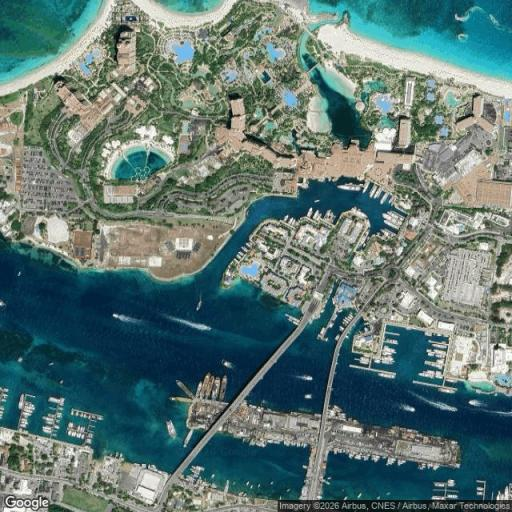ship: (68, 409, 103, 445), (183, 372, 226, 400), (43, 397, 63, 436), (166, 316, 211, 331), (43, 404, 63, 436), (19, 394, 35, 429), (421, 397, 457, 411), (71, 408, 103, 420), (199, 372, 211, 399), (202, 372, 214, 399), (176, 380, 194, 398), (389, 195, 406, 214), (235, 242, 251, 261), (67, 423, 85, 439), (112, 313, 137, 323), (0, 388, 8, 419), (340, 313, 353, 331), (350, 207, 367, 219), (23, 396, 35, 413), (338, 183, 363, 191), (166, 420, 177, 438), (196, 380, 206, 399), (340, 314, 351, 331), (219, 375, 226, 401), (76, 425, 89, 439), (370, 184, 382, 199), (212, 377, 220, 399), (208, 375, 215, 399), (184, 429, 193, 447), (358, 232, 368, 247), (424, 360, 442, 368), (48, 396, 64, 405), (342, 313, 353, 326), (286, 314, 299, 325), (191, 466, 204, 477), (324, 210, 334, 224), (430, 341, 447, 349), (68, 423, 85, 431), (381, 354, 394, 364), (419, 370, 435, 378), (378, 372, 396, 379), (369, 184, 378, 198), (489, 14, 499, 26), (317, 328, 327, 340), (382, 346, 395, 355), (468, 400, 484, 407), (371, 184, 379, 198), (401, 404, 415, 412), (287, 217, 298, 227), (433, 349, 446, 357), (438, 387, 455, 393), (288, 217, 298, 227), (380, 192, 389, 203), (43, 415, 55, 423), (382, 356, 394, 364), (196, 381, 202, 397), (19, 417, 27, 429), (455, 14, 468, 21), (85, 432, 92, 445), (243, 241, 251, 252), (222, 360, 233, 368), (374, 188, 382, 199), (234, 252, 243, 261), (312, 210, 321, 219), (42, 426, 52, 434), (196, 295, 201, 311), (360, 356, 370, 364), (425, 370, 435, 378), (472, 388, 485, 394), (447, 492, 458, 499), (363, 181, 370, 192), (19, 395, 24, 410), (297, 375, 312, 380), (196, 299, 202, 311), (445, 377, 457, 383), (372, 357, 382, 364), (328, 318, 335, 328), (244, 241, 251, 251), (384, 339, 398, 344), (56, 408, 62, 419), (476, 487, 484, 495), (435, 371, 443, 379), (418, 463, 427, 470), (0, 394, 7, 403), (429, 464, 439, 470), (224, 480, 229, 492), (56, 409, 62, 419), (371, 455, 379, 462), (427, 349, 435, 356), (447, 480, 455, 487), (434, 482, 445, 487), (431, 496, 444, 500), (0, 406, 4, 419), (397, 460, 405, 466), (307, 208, 312, 217), (388, 348, 395, 354), (112, 313, 119, 319), (354, 454, 362, 459), (304, 394, 311, 399), (0, 300, 5, 307), (335, 334, 340, 341), (2, 388, 8, 393), (18, 356, 23, 362), (210, 473, 216, 478), (323, 480, 330, 484), (425, 332, 432, 336), (284, 216, 288, 222), (250, 484, 254, 490), (357, 493, 361, 499), (48, 362, 54, 366), (286, 487, 290, 493), (377, 495, 381, 500), (246, 481, 250, 486), (258, 483, 262, 488), (270, 481, 274, 485), (355, 358, 359, 361), (60, 380, 63, 384), (314, 200, 319, 202), (18, 272, 20, 276)
